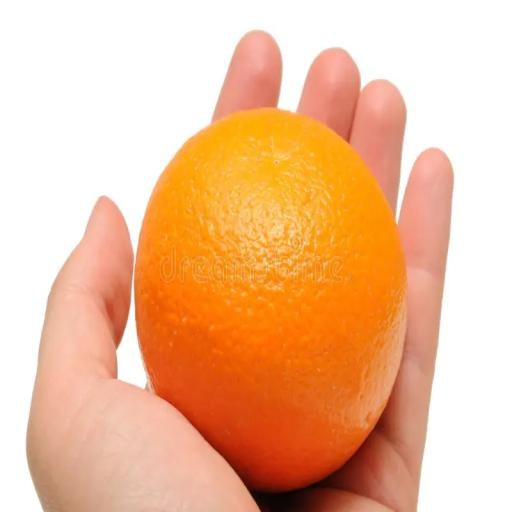orange: (135, 109, 406, 491)
